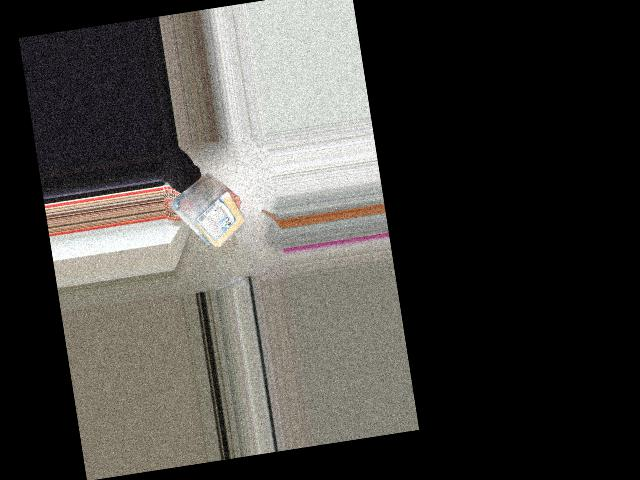cheese: (195, 180, 241, 250)
